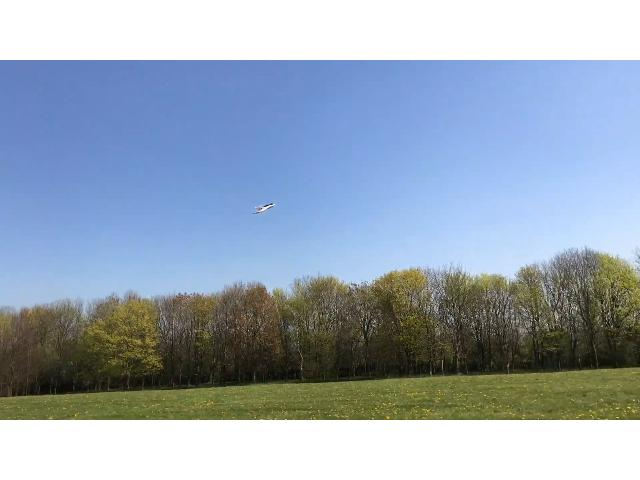Anti-Drone: (244, 196, 286, 223)
